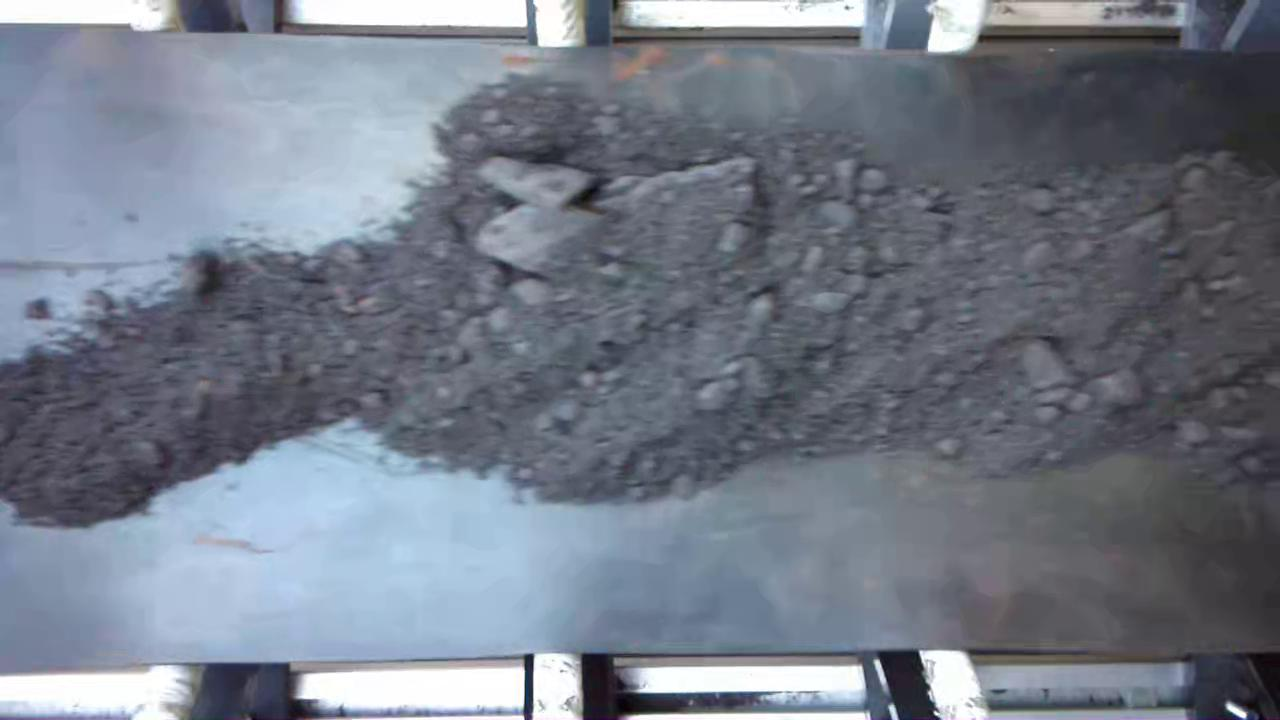conveyor: (14, 57, 1269, 644)
